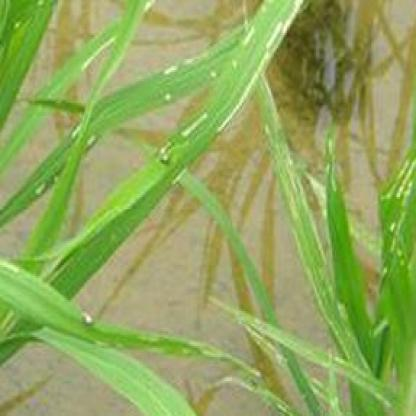rice-bug: (80, 306, 98, 327), (156, 145, 173, 167)
